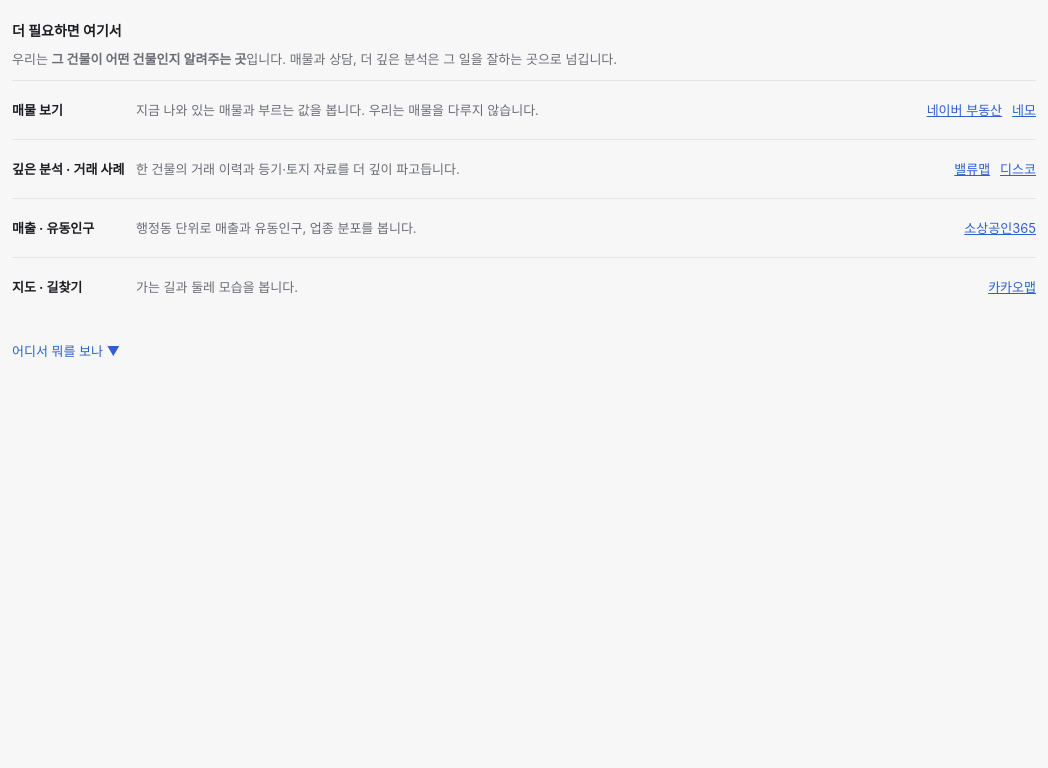
HandoffLinks — 접힌 "어디서 뭐를 보나" › 펼치면 역할 셋의 시작점이 나온다
What coordinates should you click on to do the following:
click the button "어디서 뭐를 보나 ▼"
I would click on:
 (66, 350)
Its box is [12, 328, 120, 372].
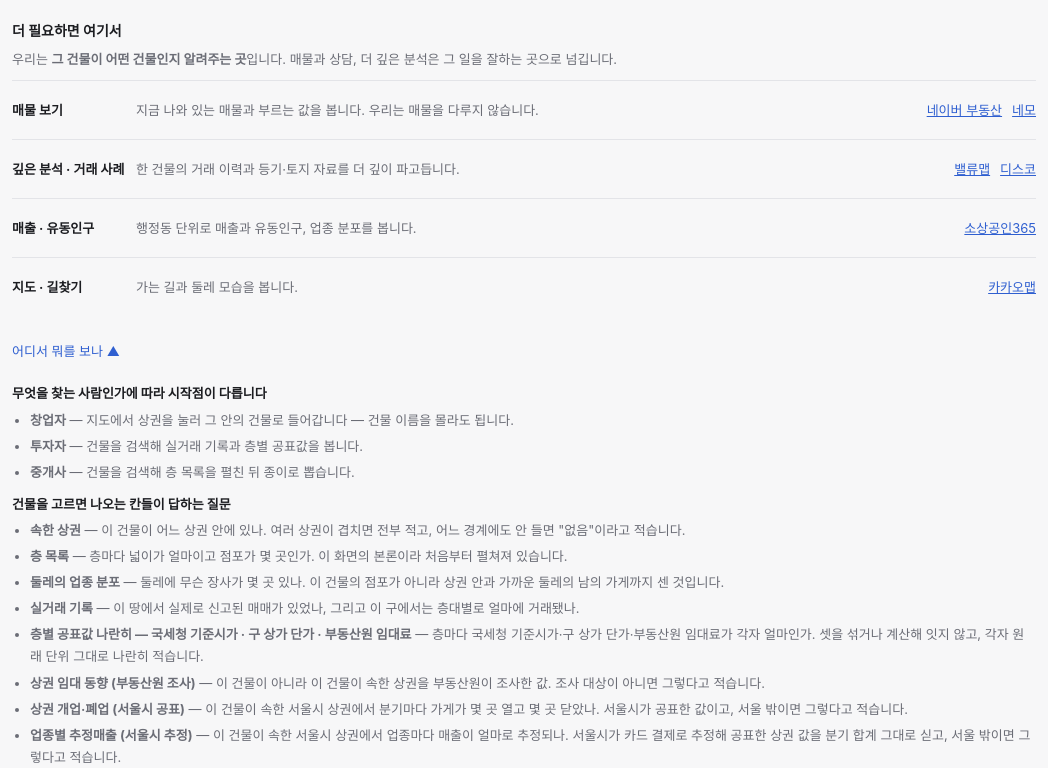
Result: the text "창업자" is shown at [30, 412, 66, 428]
Result: the text "투자자" is shown at [30, 438, 66, 454]
Result: the text "중개사" is shown at [30, 464, 66, 480]
